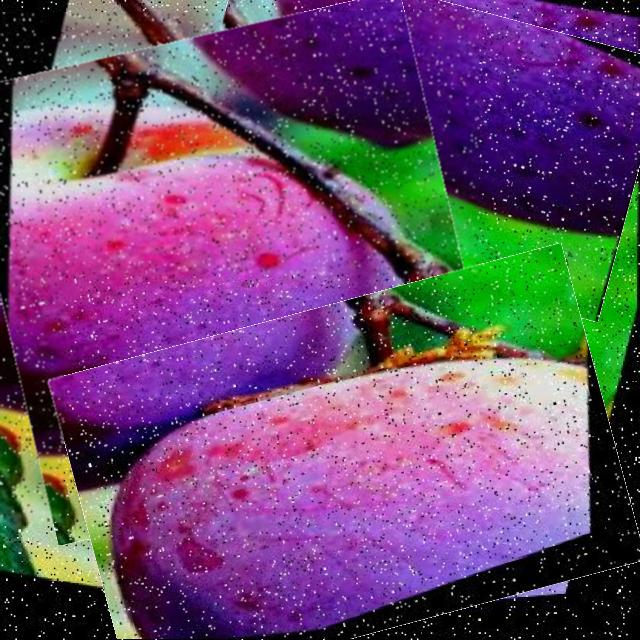plum: (0, 12, 479, 522), (64, 275, 628, 640), (186, 0, 640, 296)
